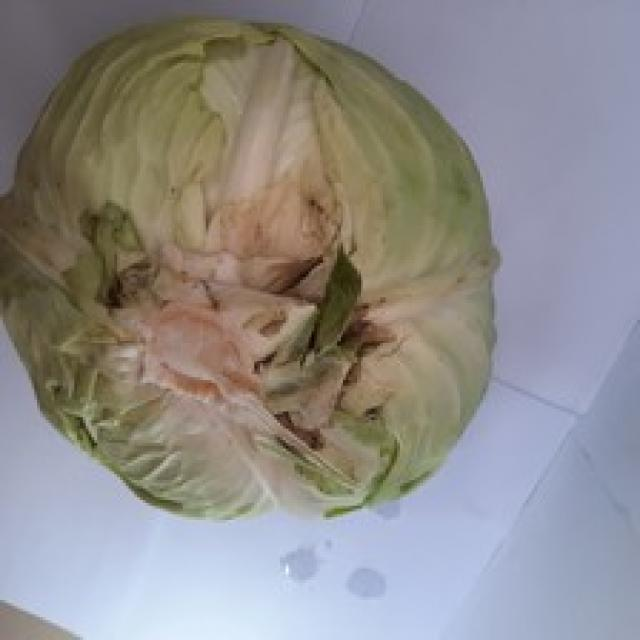Cabbage: (0, 11, 500, 520)
